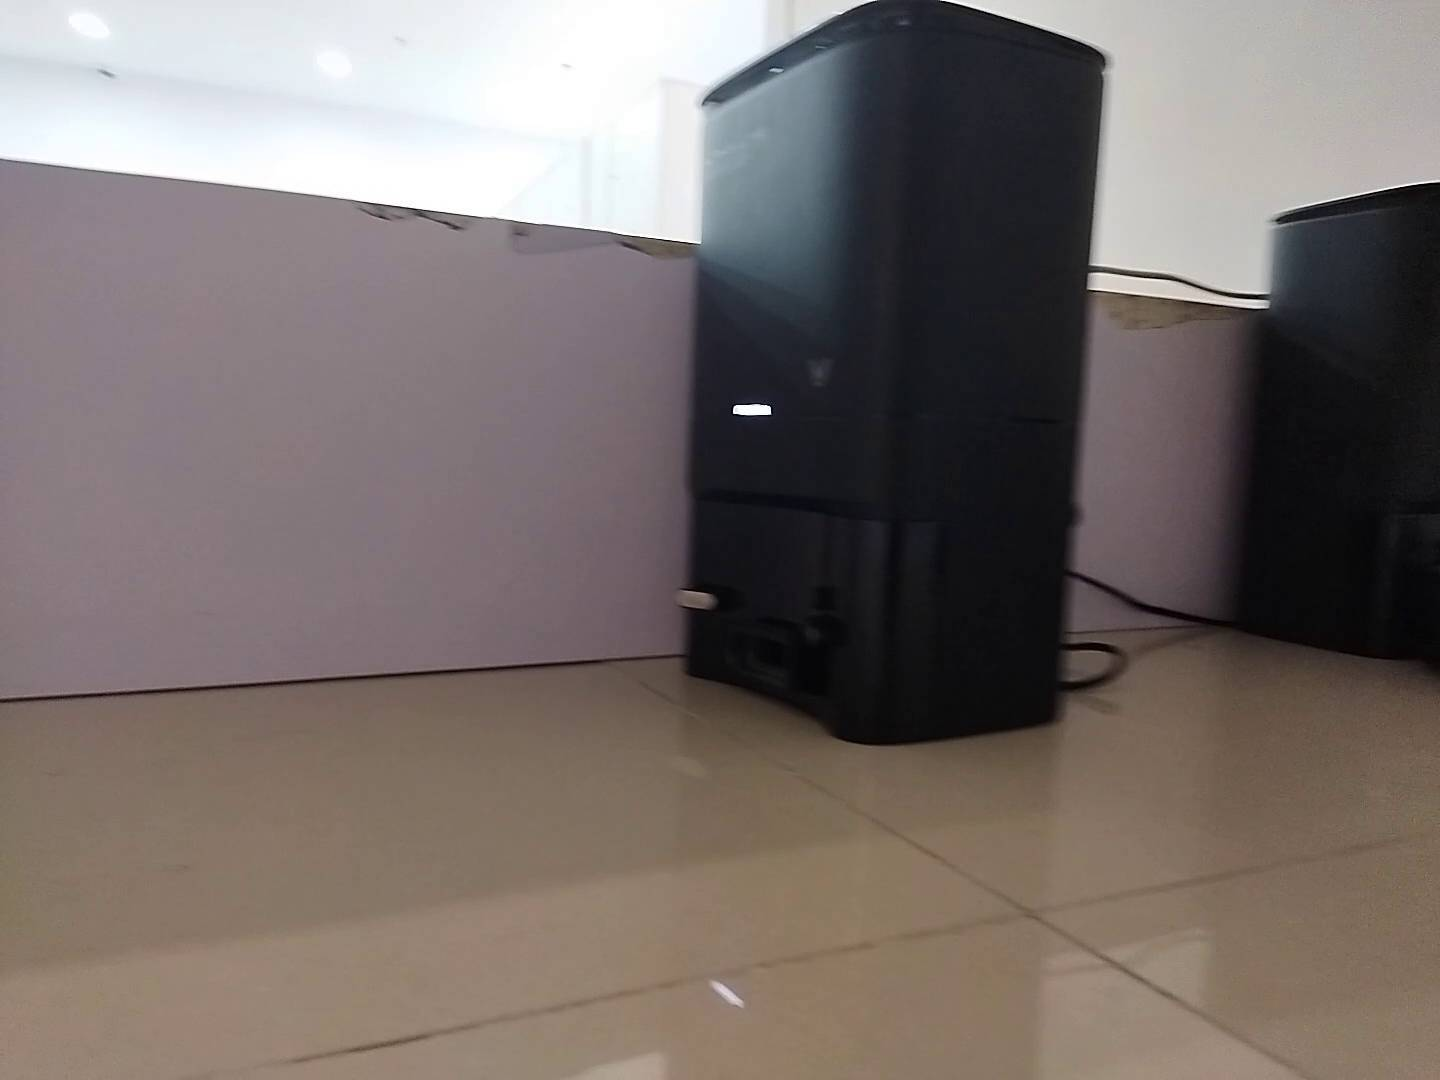dust collecting barrel: (677, 5, 1103, 746), (1245, 177, 1440, 668)
